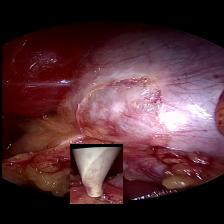Hook: (69, 144, 122, 204)
